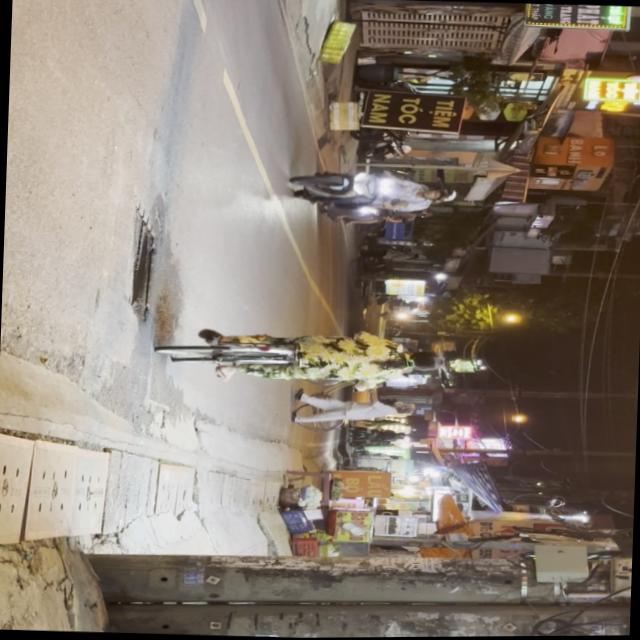helmet: (426, 186, 458, 201)
licenseplate: (283, 163, 459, 217)
